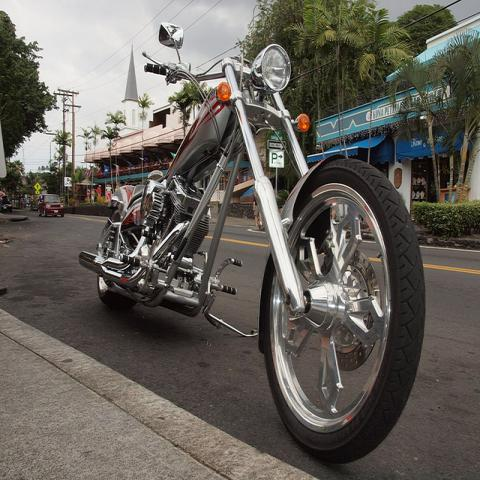car: (39, 192, 65, 218)
motorcycle: (79, 25, 426, 466)
